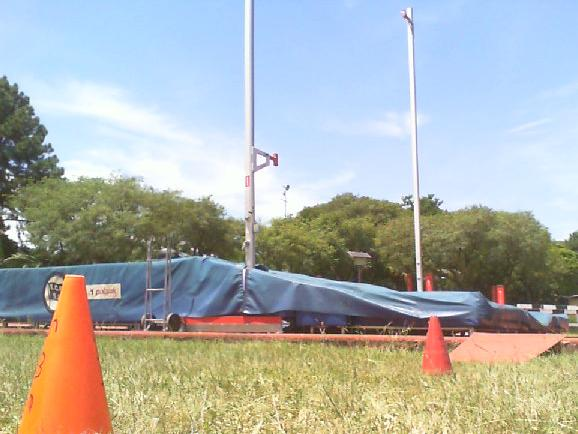0 cone: (5, 275, 121, 434), (421, 317, 454, 376)
